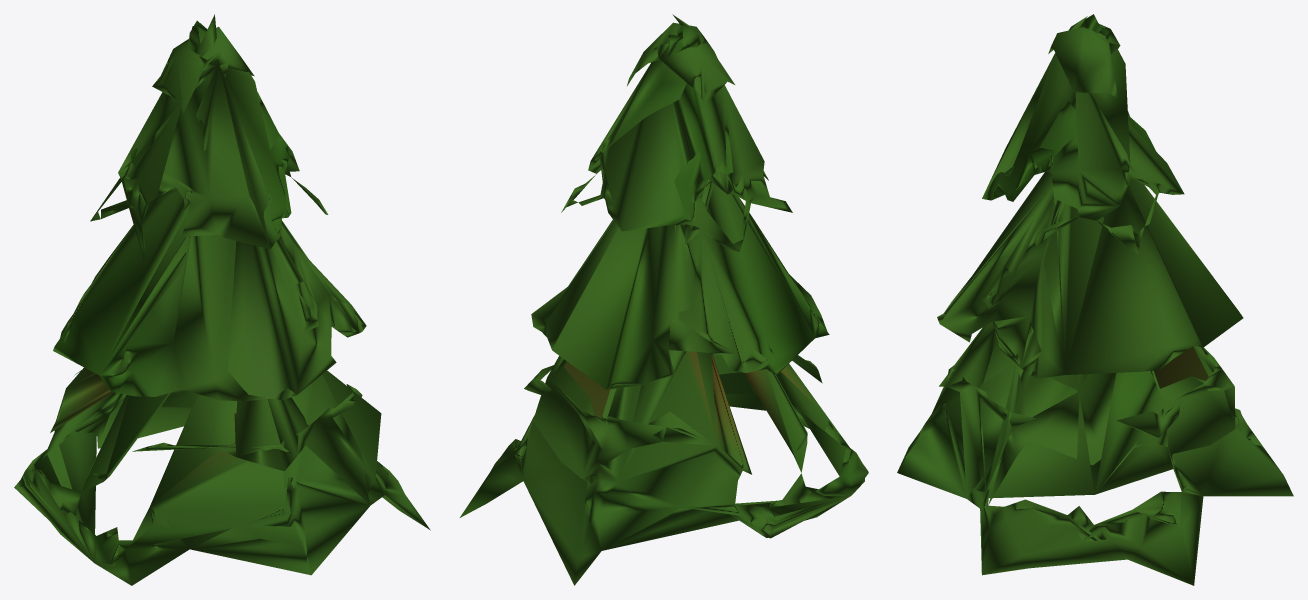
The model's file is gen3d-spruce-tree-lod1.glb.
The picture shows the model from 3 angles, left to right: view 1: azimuth 30°, elevation 25°; view 2: azimuth 150°, elevation 25°; view 3: azimuth 270°, elevation 25°; orthographic projection. The views are drawn at different scales.
Parts seen in each view (by area): view 1: part_0; view 2: part_0; view 3: part_0.
Boxes of the visible parts, left/top/right/bottom form: part_0: left=14, top=14, right=430, bottom=585; part_0: left=460, top=14, right=868, bottom=585; part_0: left=897, top=14, right=1293, bottom=585.
Bounding box in the file's own units: 0.631 × 0.9874 × 0.719.
